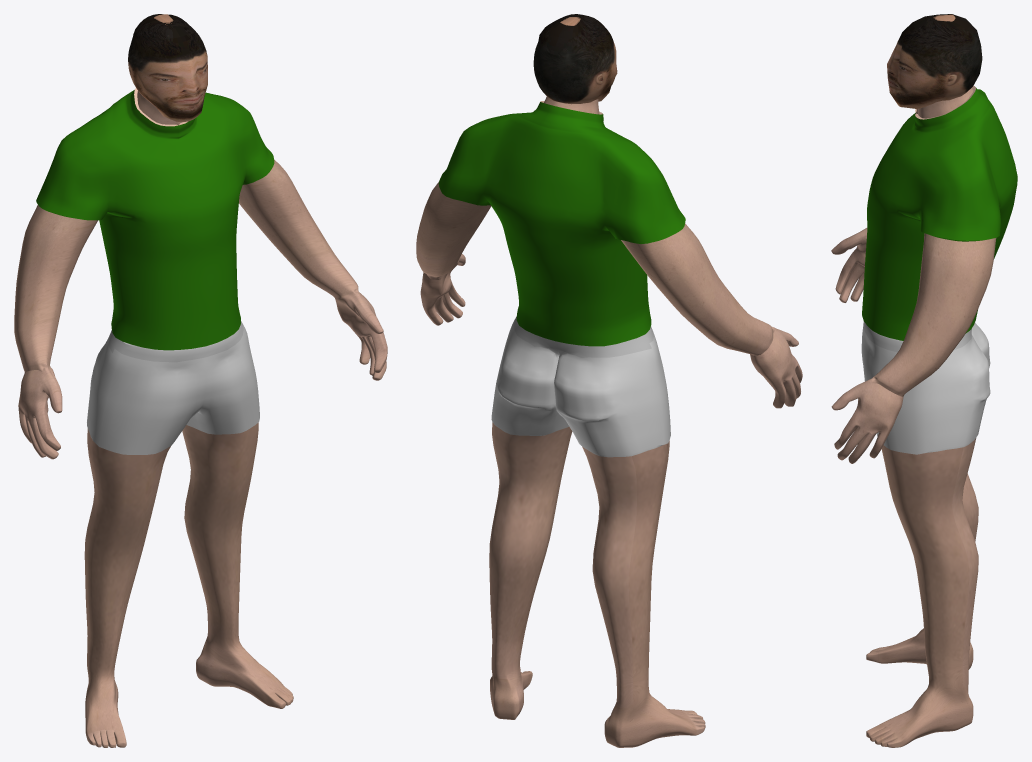
The model's file is npc1.fbx.
The picture shows the model from 3 angles, left to right: view 1: azimuth 30°, elevation 25°; view 2: azimuth 150°, elevation 25°; view 3: azimuth 270°, elevation 25°; orthographic projection. The views are drawn at different scales.
Parts seen in each view (by area): view 1: pasted__pasted__Head; view 2: pasted__pasted__Head; view 3: pasted__pasted__Head.
Boxes of the visible parts, x1,y1,x2,y2 form: pasted__pasted__Head: (14,14,387,747); pasted__pasted__Head: (416,14,802,747); pasted__pasted__Head: (831,14,1017,747).
Size of the model in its own units: 6.06 by 11.3 by 2.8.
